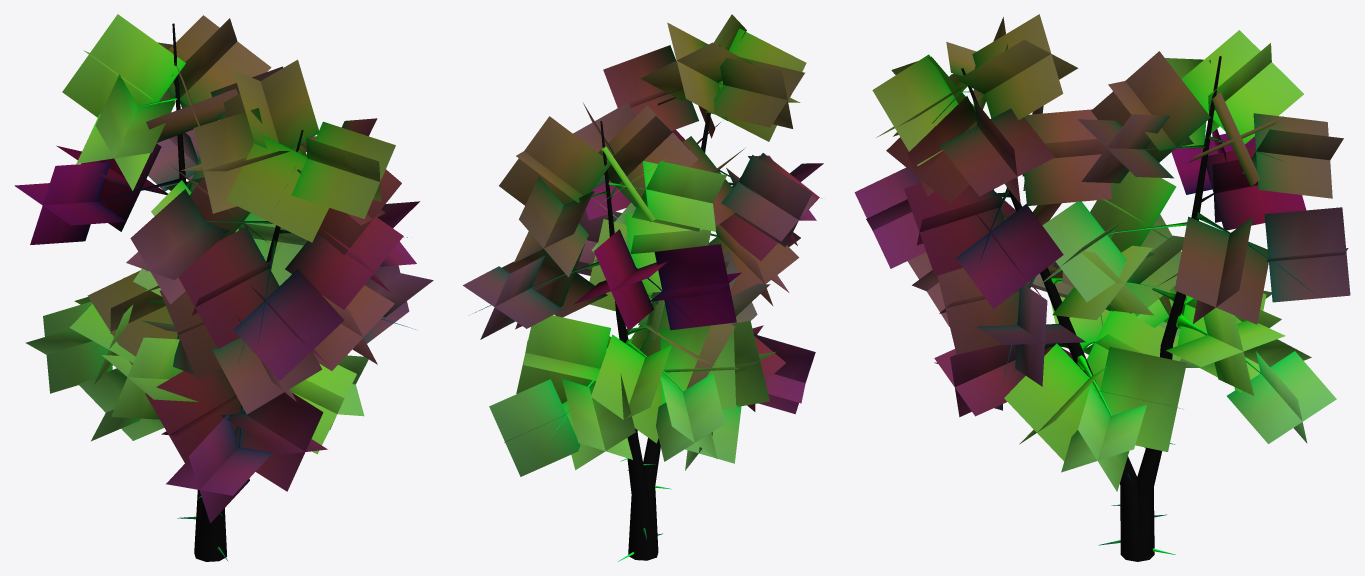
File: URP_P7_Tree_6_LOD_2.fbx
3 views of the same model, side by side, from view 1: azimuth 30°, elevation 25°; view 2: azimuth 150°, elevation 25°; view 3: azimuth 270°, elevation 25° (orthographic). The views are drawn at different scales.
Parts seen in each view (by area): view 1: Tree_6_LOD_2; view 2: Tree_6_LOD_2; view 3: Tree_6_LOD_2.
Boxes of the visible parts, box(x1,y1,x2,y2) form: Tree_6_LOD_2: box(14, 14, 433, 561); Tree_6_LOD_2: box(463, 14, 823, 561); Tree_6_LOD_2: box(854, 14, 1350, 561).
Bounding box in the file's own units: 242 × 411 × 348.
